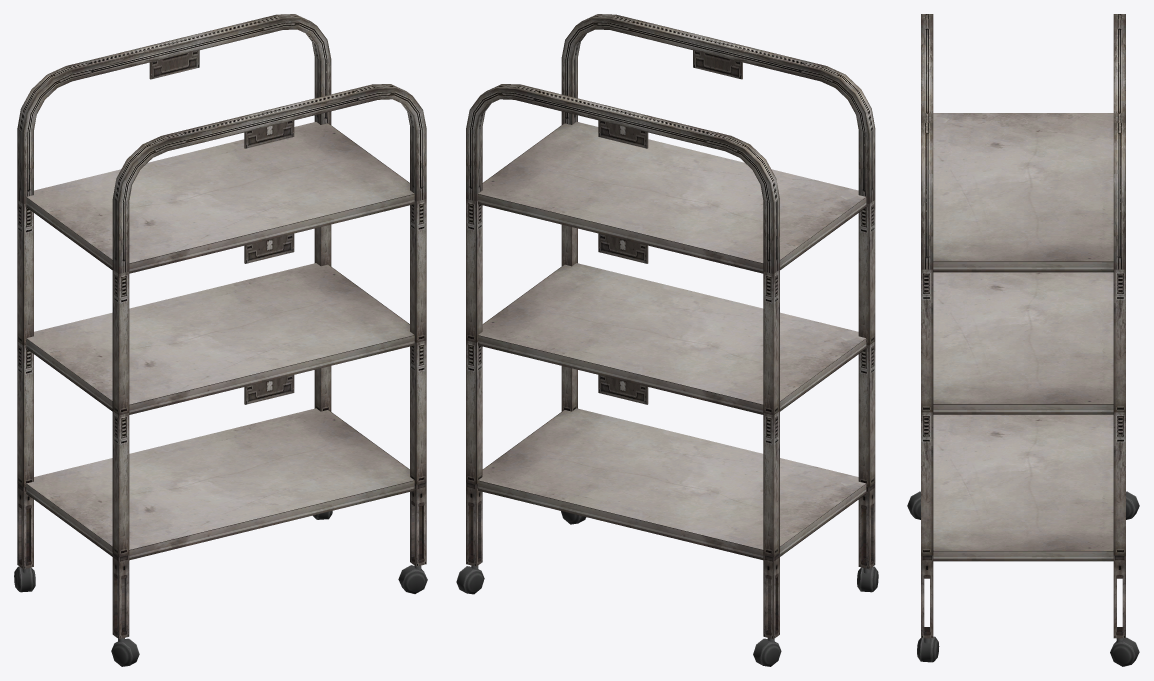
The model's file is shelving_unit_ark_room_large.dae.
3 renders of one model, left to right at view 1: azimuth 30°, elevation 25°; view 2: azimuth 150°, elevation 25°; view 3: azimuth 270°, elevation 25°, orthographic.
Parts seen in each view (by area): view 1: Mesh, wheel; view 2: Mesh, wheel; view 3: Mesh, wheel.
Part boxes in pixels (bbox=[...]): Mesh: bbox=[17, 14, 426, 638]; wheel: bbox=[14, 511, 427, 666]; Mesh: bbox=[466, 14, 875, 639]; wheel: bbox=[456, 511, 878, 666]; Mesh: bbox=[921, 14, 1125, 638]; wheel: bbox=[907, 491, 1139, 666].
Size of the model in its own units: 1.62 by 2.51 by 1.02.
